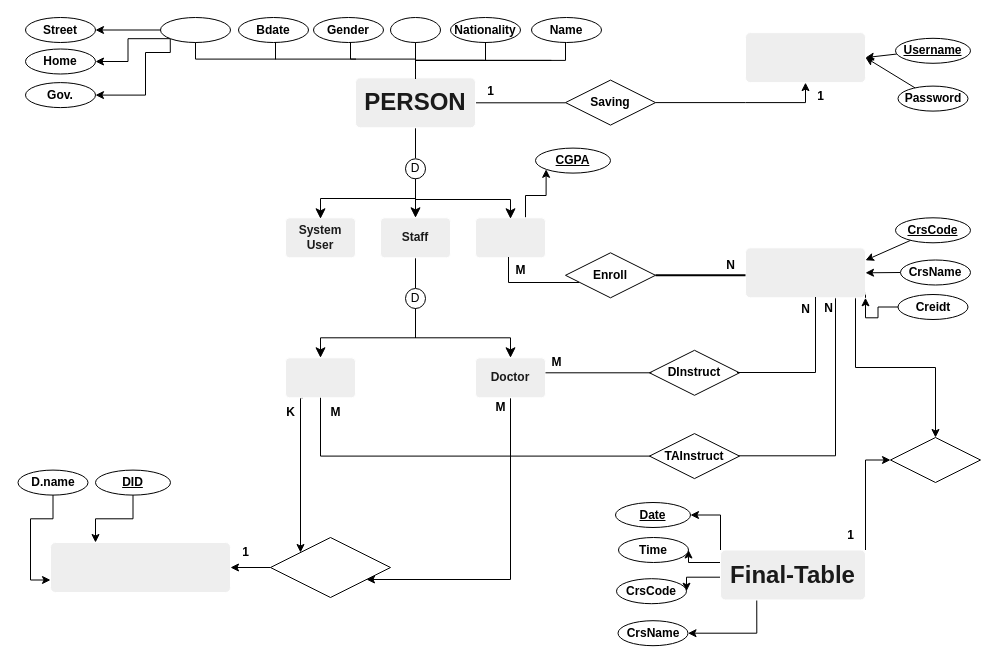
Image size: 998x664. Some labels were removed from this diagram. Here are the shapes that lost their labels. From the top down, the centre of each, then its label:
At [195,29]: "Address".
At [415,29]: "SSN".
At [805,57]: "Auth.".
At [510,237]: "Student".
At [805,272]: "Course".
At [320,377]: "Teaching Assistant".
At [935,459]: "Arrange".
At [140,567]: "Department".
At [330,567]: "Works".
